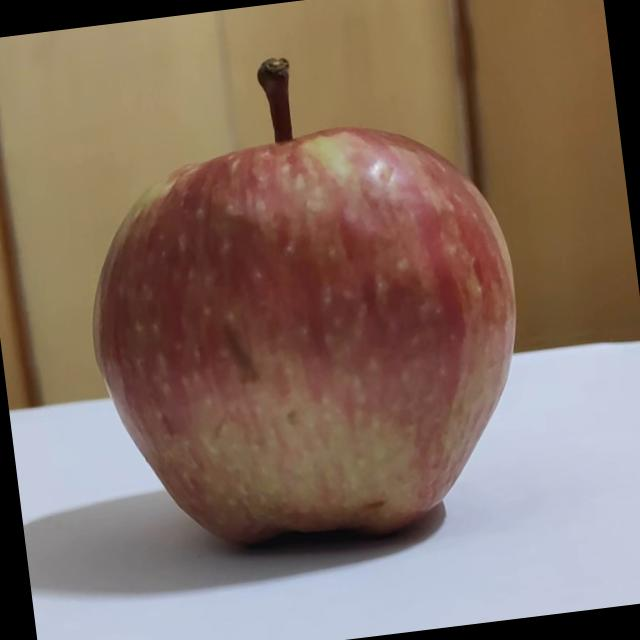apple: (58, 28, 546, 568)
